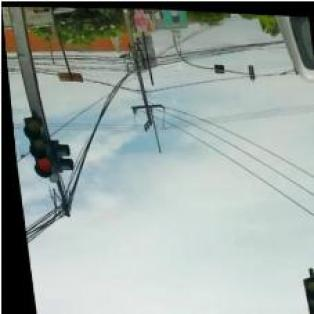Semaforo Rojo: (19, 115, 54, 178), (299, 274, 314, 313)
